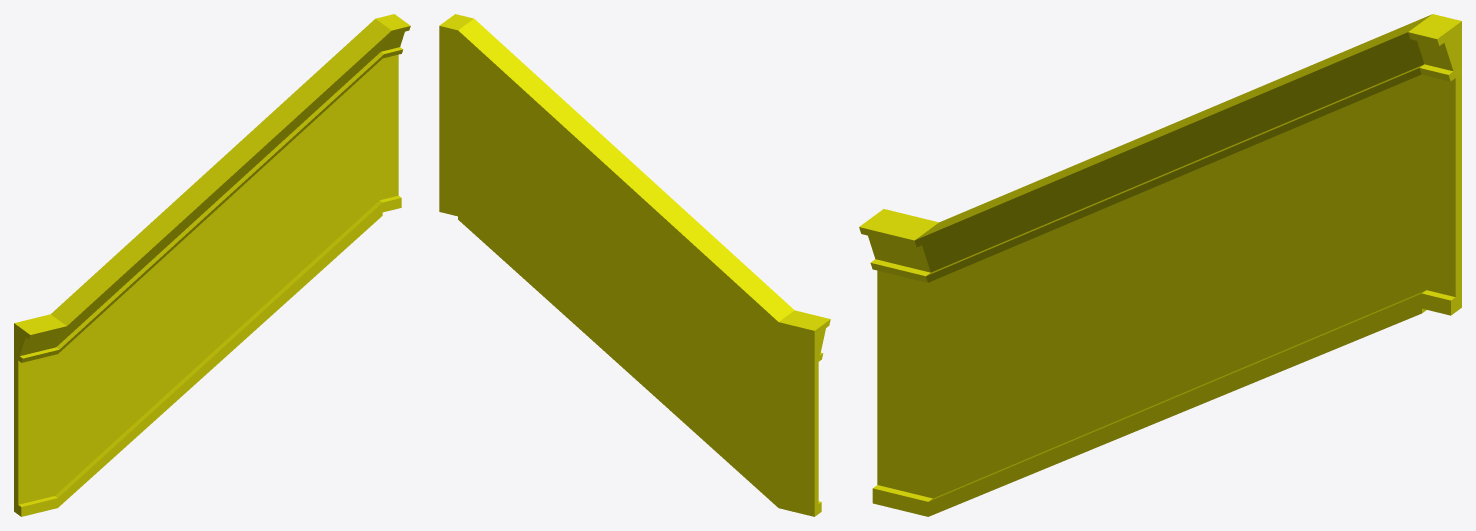
File: BasementStairWall.fbx
The picture shows the model from 3 angles, left to right: view 1: azimuth 30°, elevation 25°; view 2: azimuth 150°, elevation 25°; view 3: azimuth 330°, elevation 25°; orthographic projection. The views are drawn at different scales.
Parts seen in each view (by area): view 1: BasementStairWall; view 2: BasementStairWall; view 3: BasementStairWall.
Part boxes in pixels (x1,y1,x2,y2): BasementStairWall: (14,14,410,516); BasementStairWall: (439,14,830,516); BasementStairWall: (859,14,1461,516).
Size of the model in its own units: 736 by 749 by 54.68.
